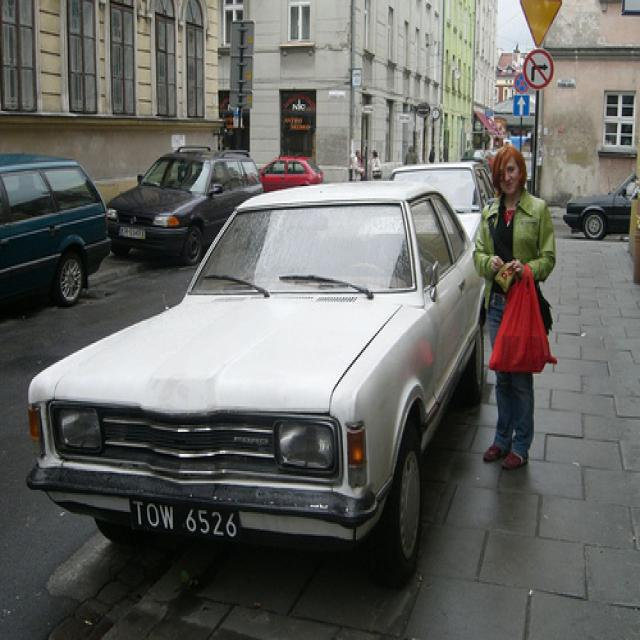light_vehicle: (23, 179, 488, 589), (104, 146, 261, 264), (0, 148, 111, 310), (357, 158, 494, 245), (560, 171, 638, 239), (255, 156, 325, 190)
